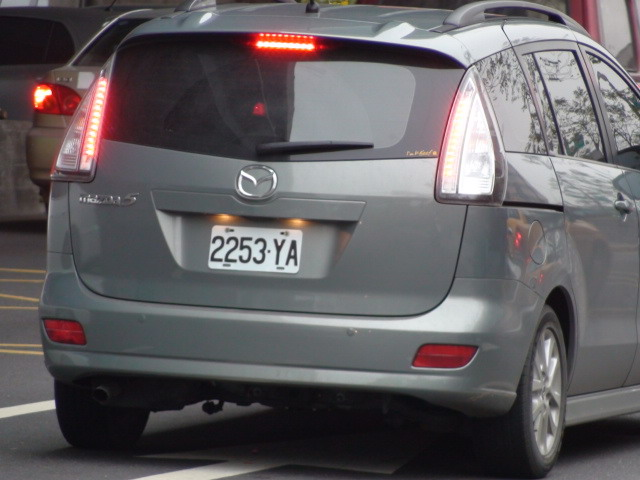plate: (206, 223, 304, 278)
